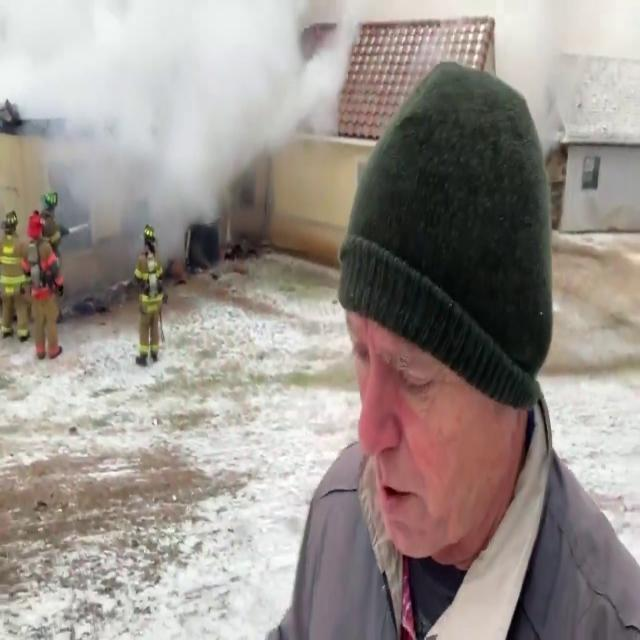Smoke: (43, 0, 327, 307)
